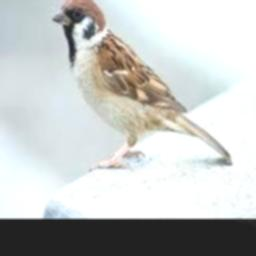Sparrow: (53, 0, 231, 169)
